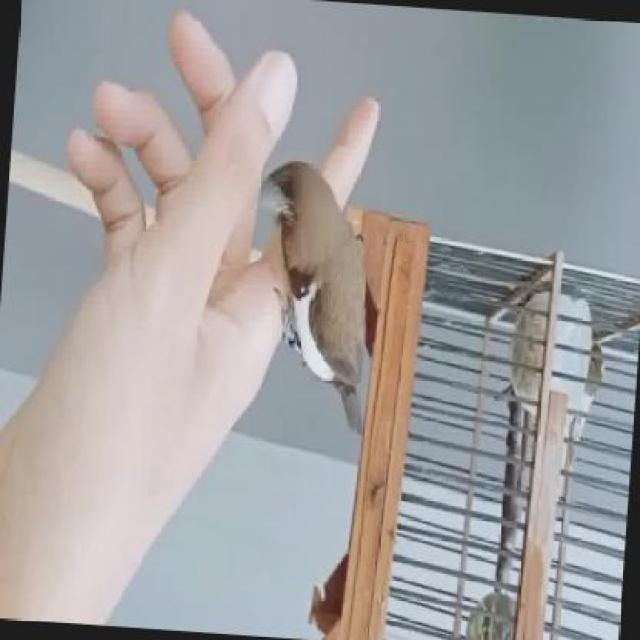Bird: (255, 155, 416, 443)
